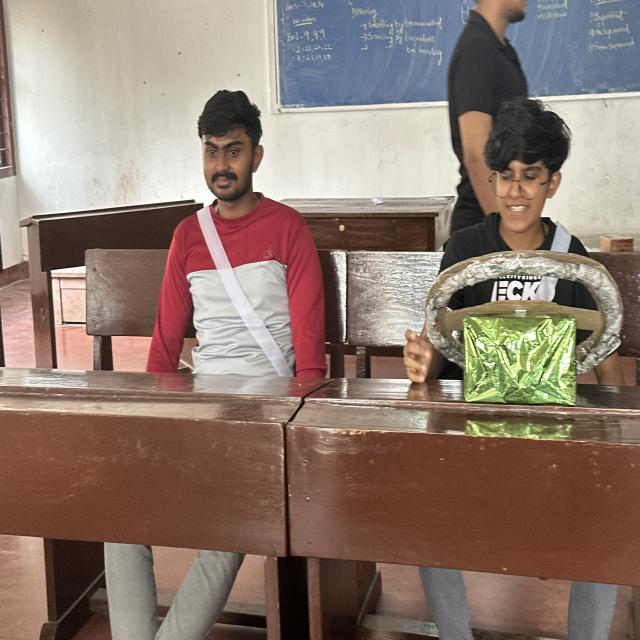seatbelt: (176, 208, 309, 380), (455, 220, 596, 352)
